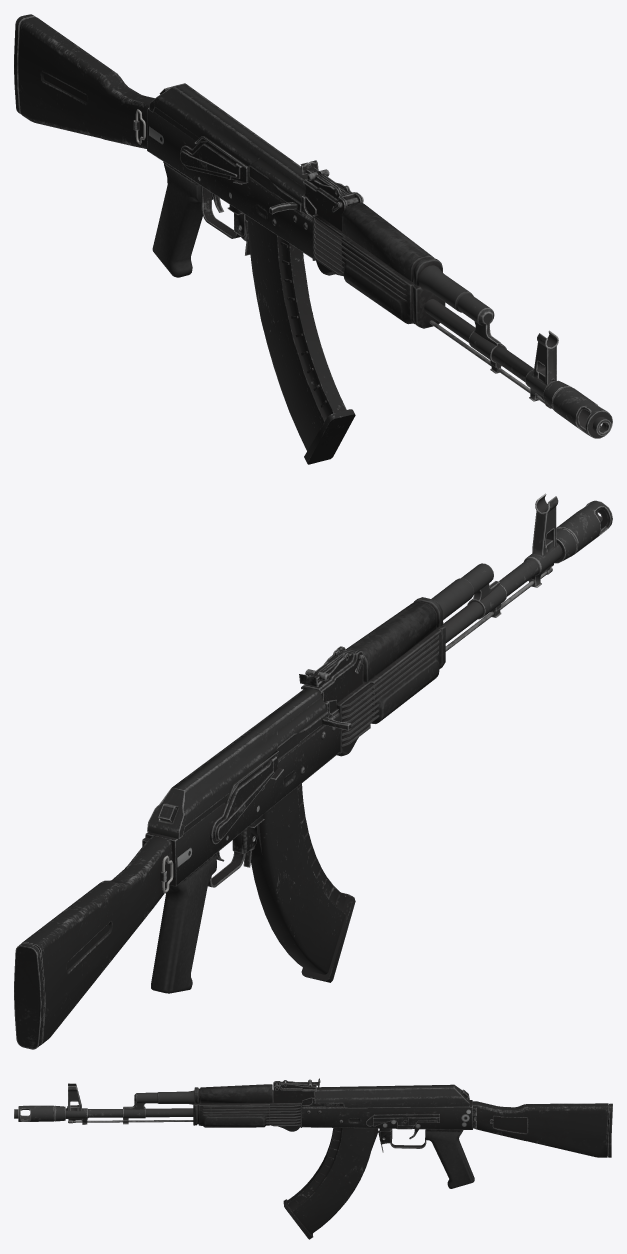
The picture shows the model from 3 angles, top to bottom: view 1: azimuth 30°, elevation 25°; view 2: azimuth 150°, elevation 25°; view 3: azimuth 270°, elevation 25°; orthographic projection. The views are drawn at different scales.
Visible parts, largest first — view 1: Cube.052_1; view 2: Cube.052_1; view 3: Cube.052_1.
Boxes of the visible parts, x1,y1,x2,y2 form: Cube.052_1: [14, 14, 612, 464]; Cube.052_1: [14, 493, 612, 1049]; Cube.052_1: [14, 1078, 612, 1239].
Bounding box in the file's own units: 0.0598 × 0.2717 × 0.9428.
Materials: 7 (7 with a texture image).
